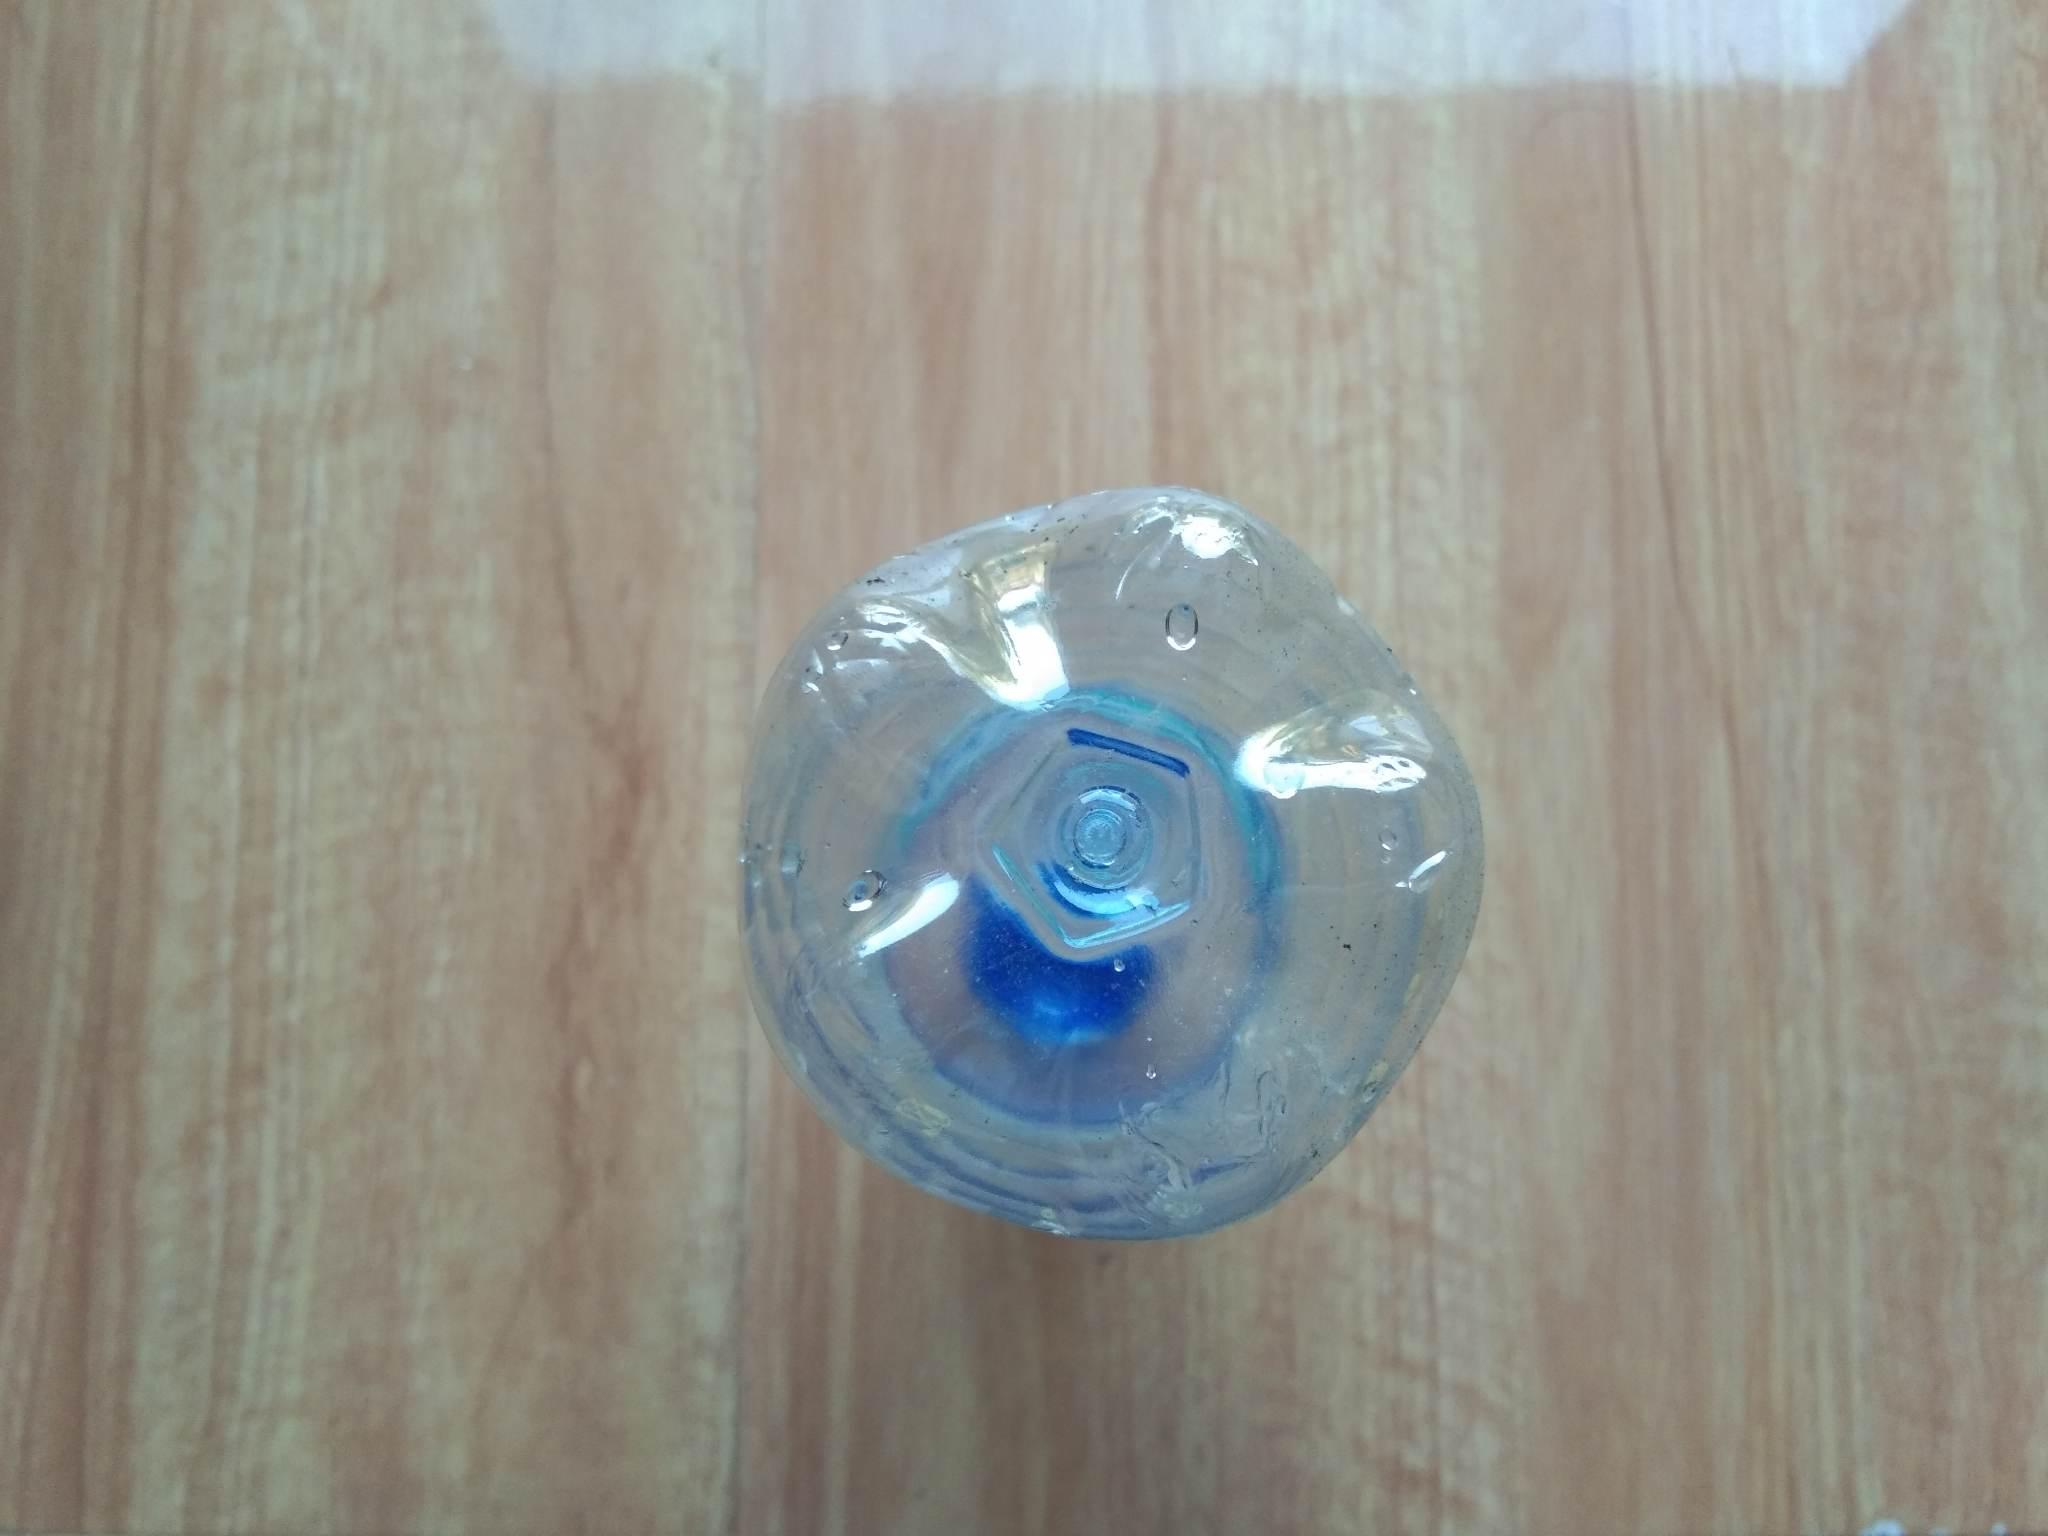plastic: (576, 423, 1608, 1252)
